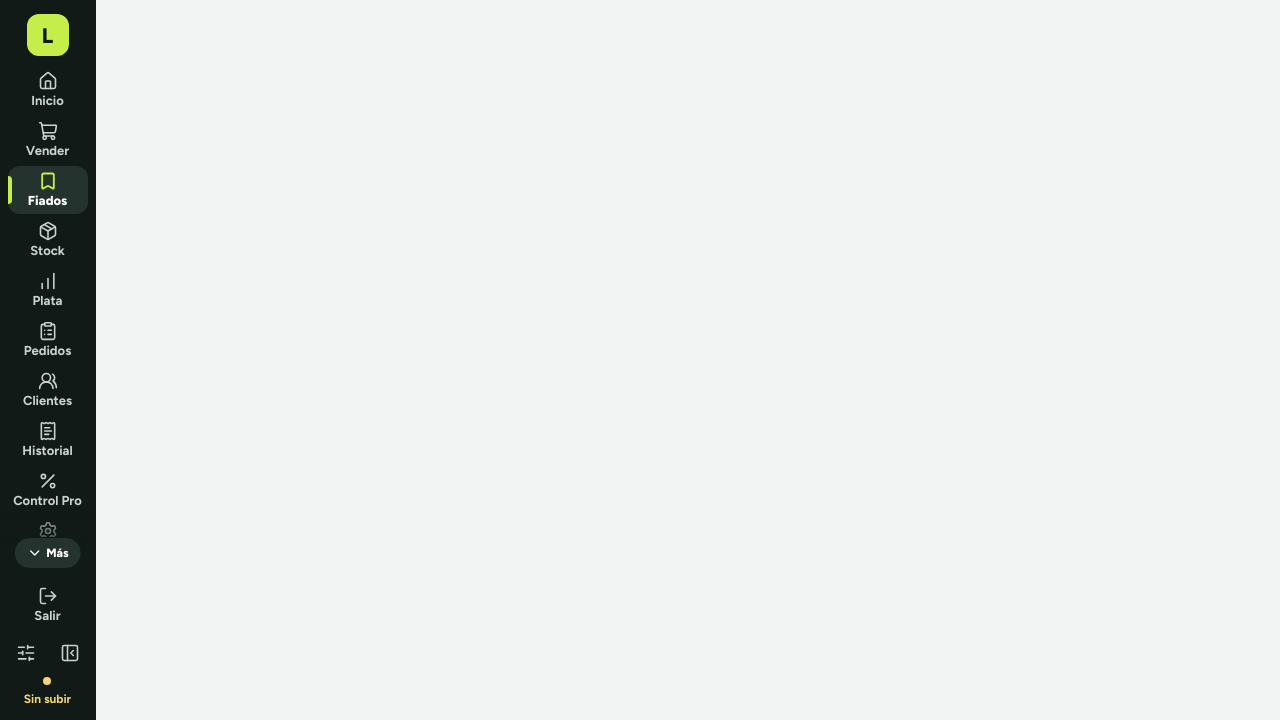
Navegacion › ocultar una sección la saca del menú y se puede volver a mostrar
The image size is (1280, 720).
Expected: the link "Pedidos" is shown, [24,321,71,358]
Step 1. Click the button named "Editar menú" → (26, 653), box [6,633,46,673]
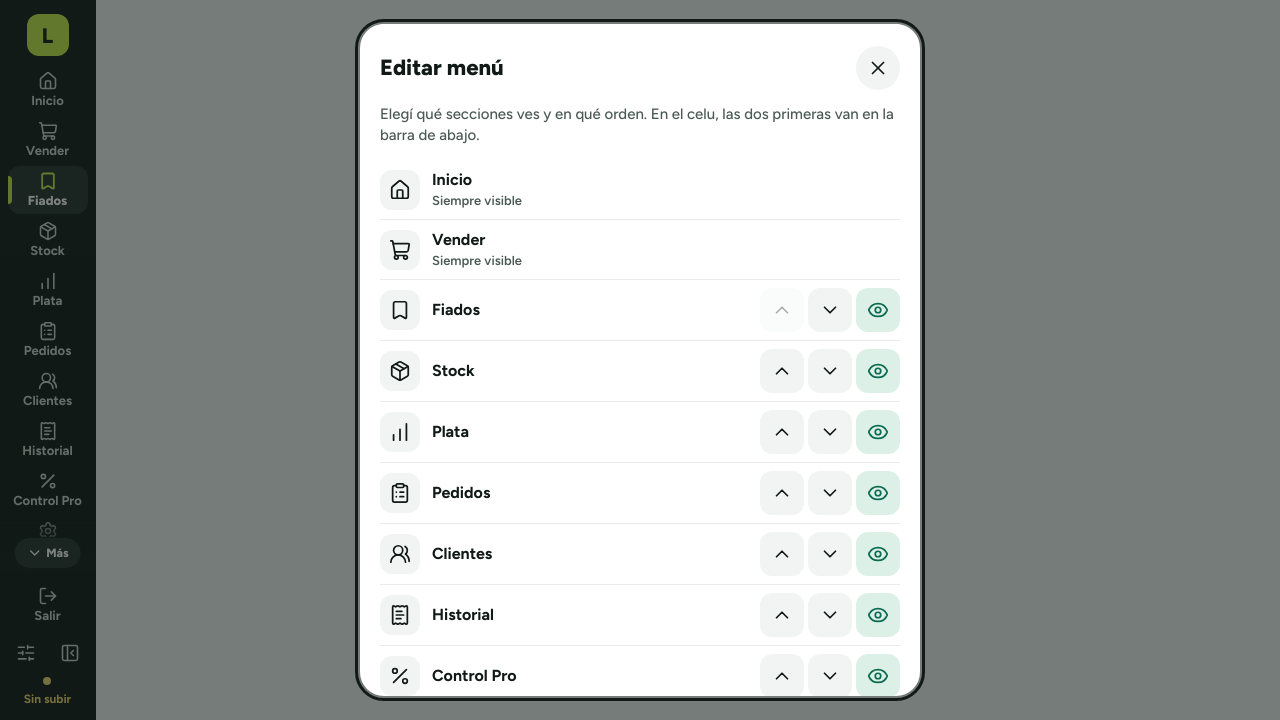
Step 2. Click the switch named "Mostrar Pedidos en el menú" → (878, 493), box [856,471,900,515]
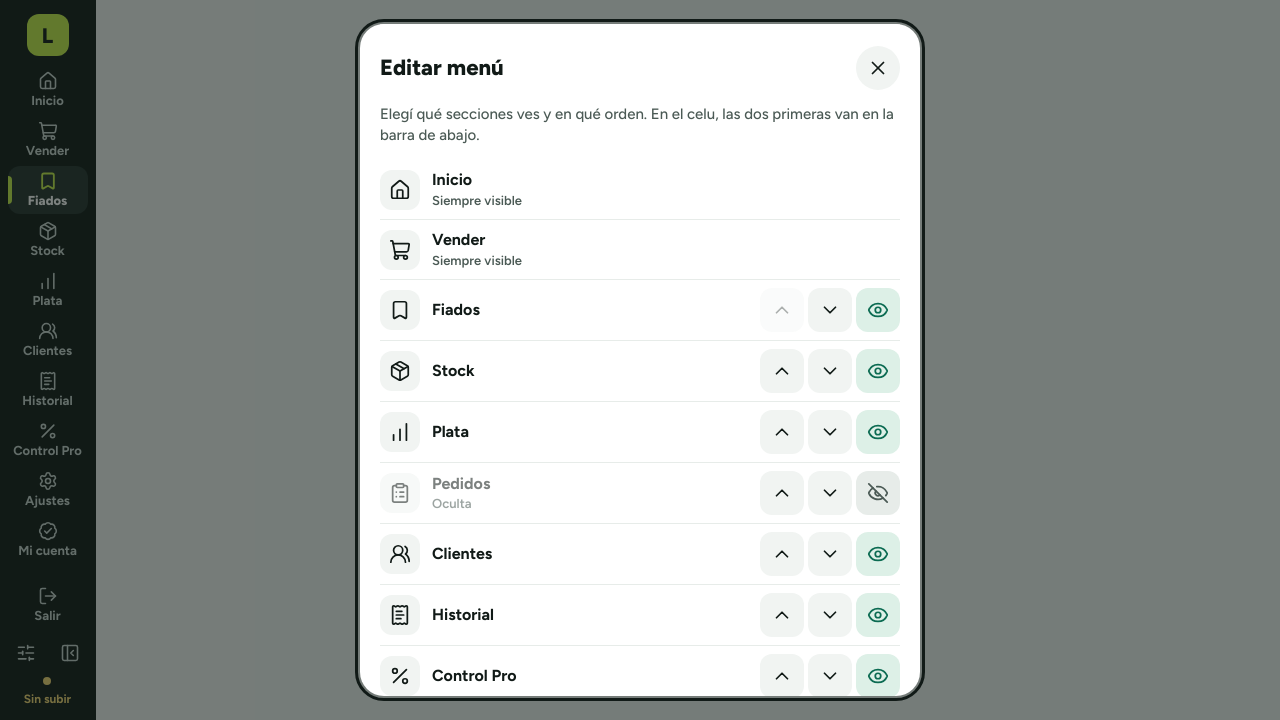
Expected: the switch named "Mostrar Pedidos en el menú" is not checked
Step 3. Click the switch named "Mostrar Pedidos en el menú" → (878, 493), box [856,471,900,515]
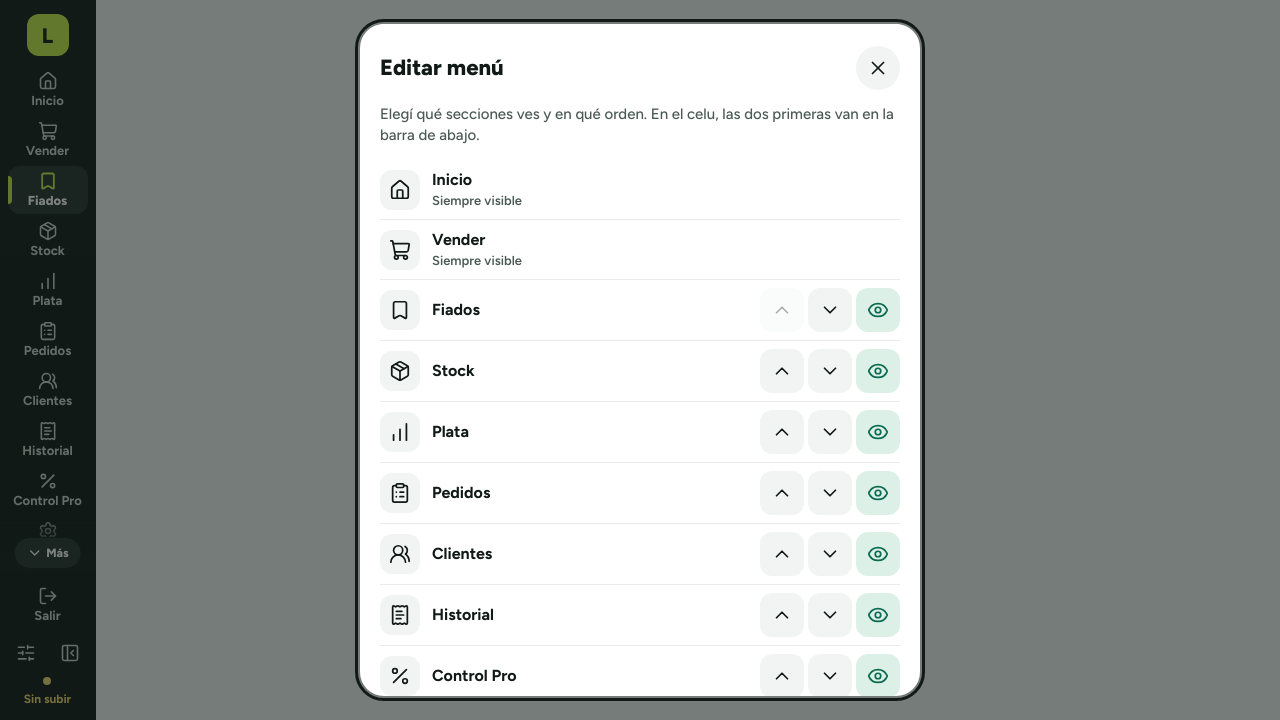
Expected: the link "Pedidos" is shown, [24,321,71,358]
